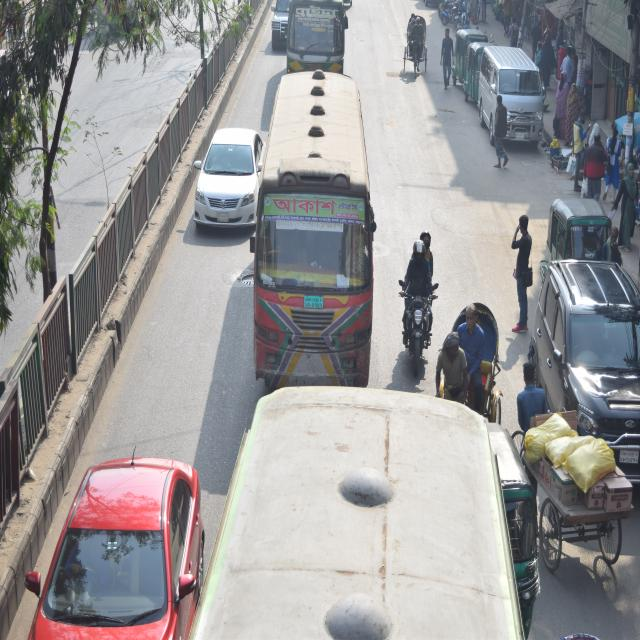bus: (194, 393, 516, 640), (249, 68, 379, 396), (286, 0, 348, 69)
car: (16, 433, 215, 640), (524, 253, 640, 483), (191, 117, 271, 234)
microbus: (482, 48, 544, 140)
motorbike: (398, 256, 436, 372)
